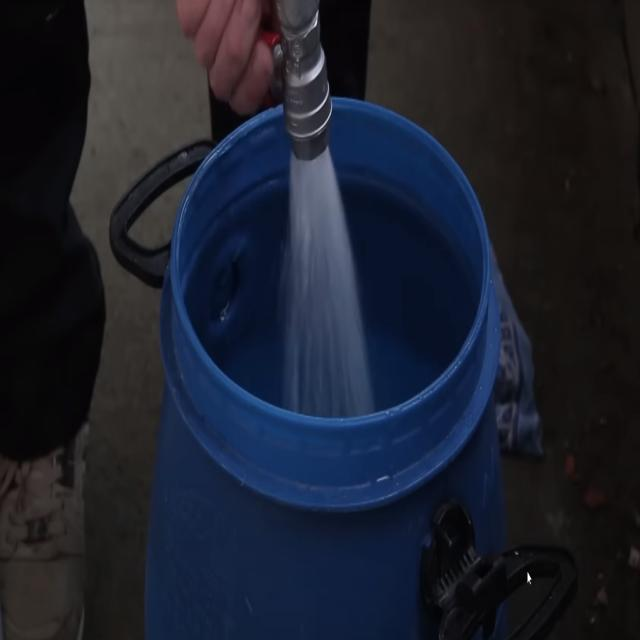leak: (282, 149, 374, 418)
